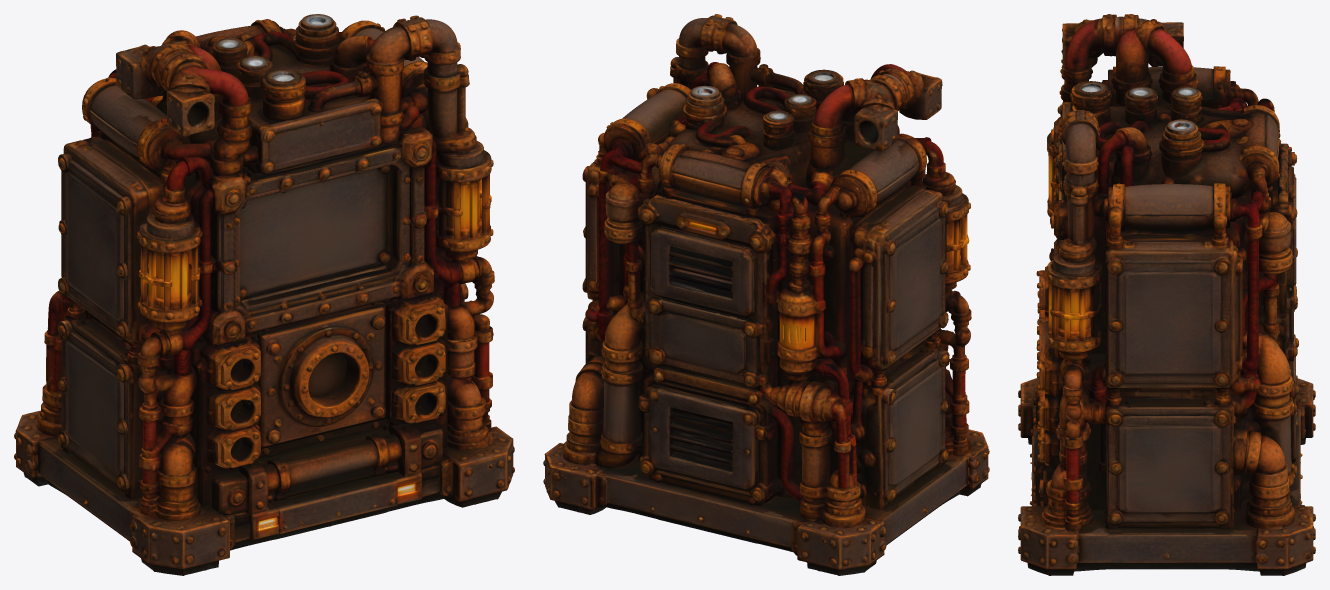
Rendered from computer.glb.
The picture shows the model from 3 angles, left to right: view 1: azimuth 30°, elevation 25°; view 2: azimuth 150°, elevation 25°; view 3: azimuth 270°, elevation 25°; orthographic projection. The views are drawn at different scales.
Visible parts, largest first — view 1: Mesh_0; view 2: Mesh_0; view 3: Mesh_0.
Part boxes in pixels (bbox=[...]): Mesh_0: bbox=[14, 14, 514, 575]; Mesh_0: bbox=[543, 14, 989, 575]; Mesh_0: bbox=[1018, 14, 1315, 575].
Bounding box in the file's own units: 0.719 × 0.8897 × 0.5513.
Materials: 1 (1 with a texture image).
